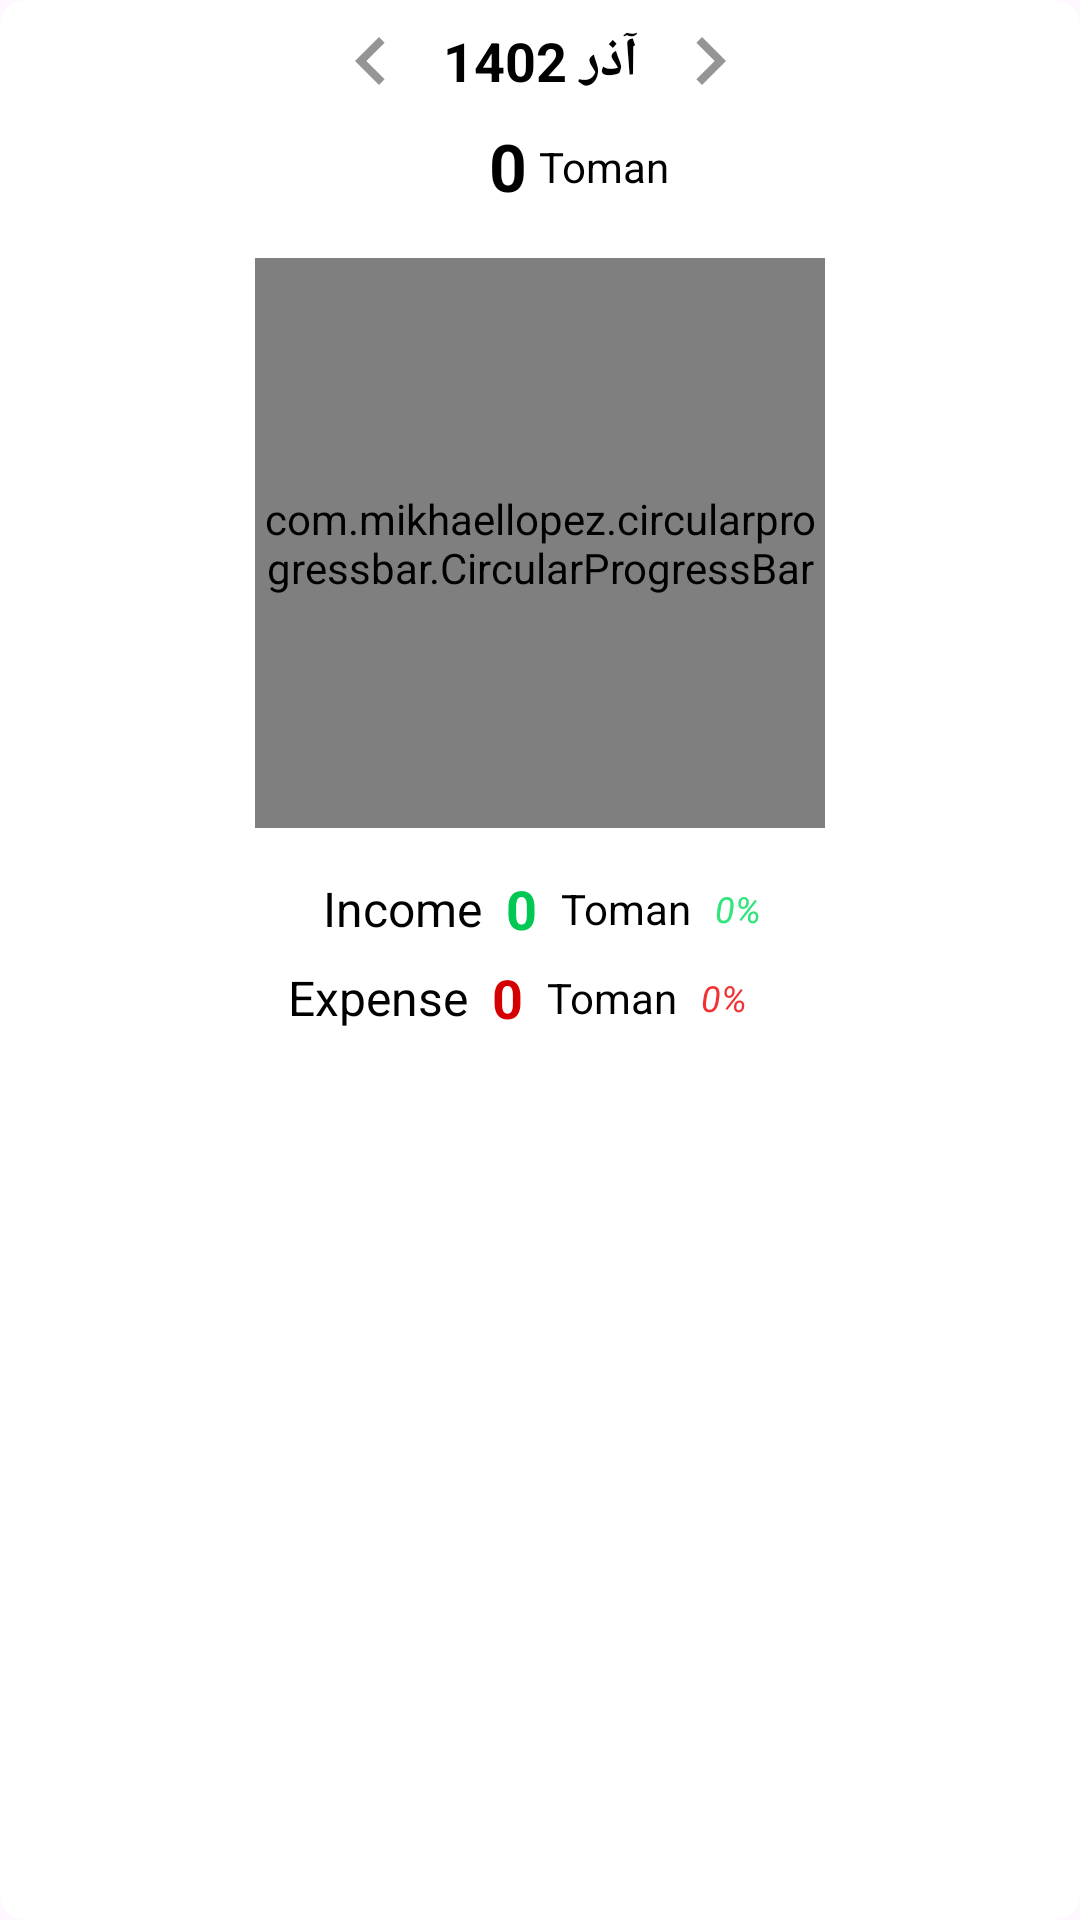

Icon click points for this 1080x1920 phone screenshot, format point (x, y):
arrow left: point (370, 61)
arrow right: point (711, 61)
